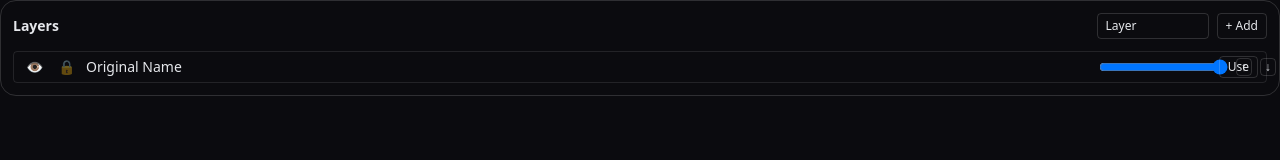
it: LayersPanel › rename layer › should rename layer on blur
Click the text "Original Name" at (134, 66), box [86,57,182,76]
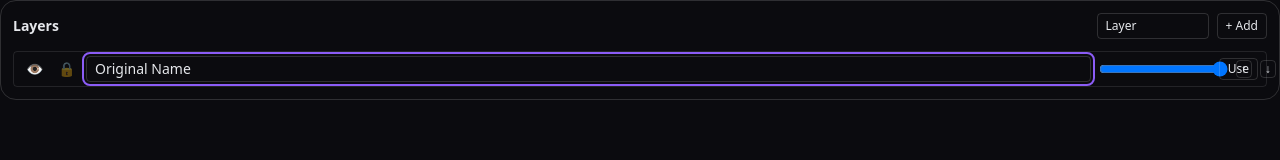
Replace the text in the 2nd field showing "Original Name" with "New Name" at (588, 69), box [86,56,1091,82]
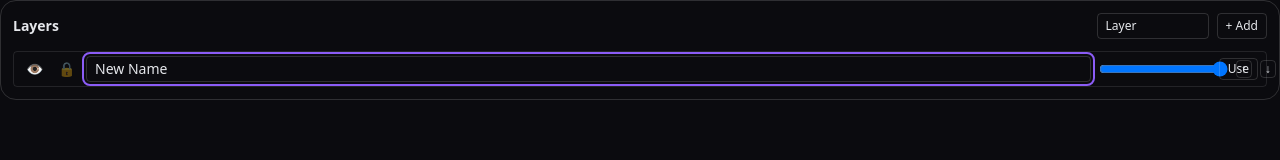
Leave the 2nd field showing "Original Name", box [86,56,1091,82]
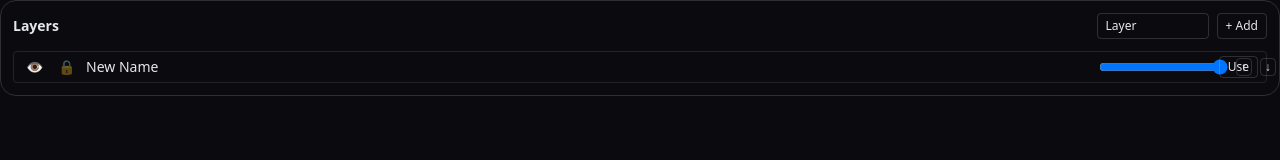
Expected: the text "New Name" is shown, [86,57,158,76]
